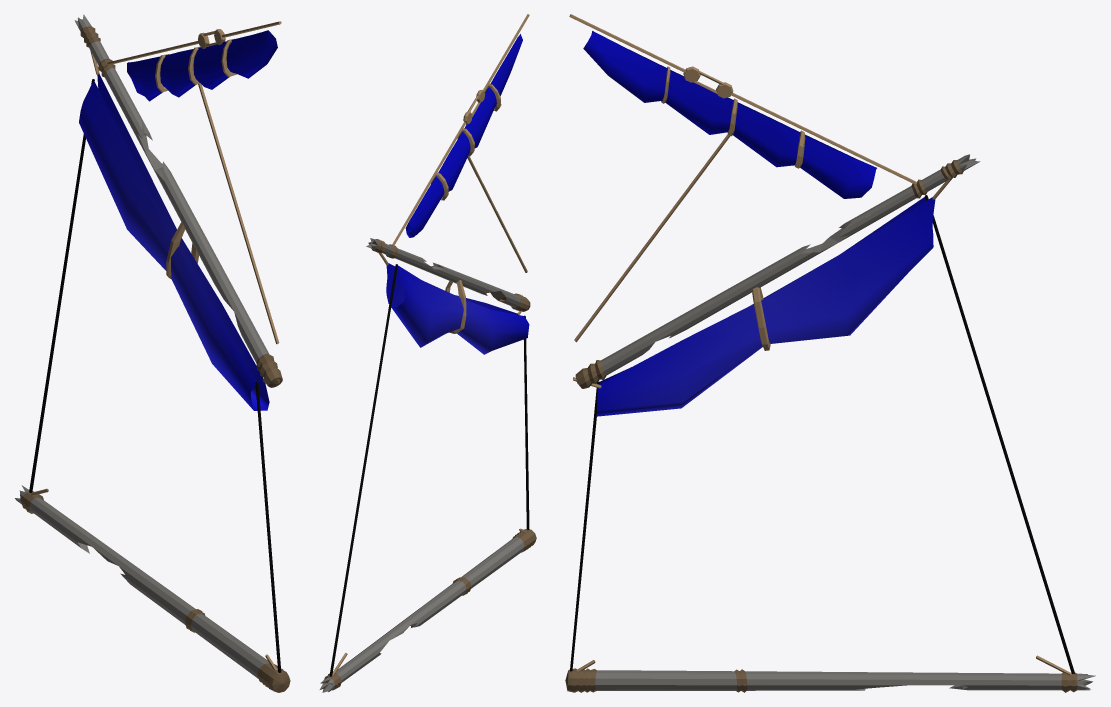
File: SM_Veh_Ship_M_Mast_Back_02_Boom_Back_01_Tied_01.fbx
The picture shows the model from 3 angles, left to right: view 1: azimuth 30°, elevation 25°; view 2: azimuth 150°, elevation 25°; view 3: azimuth 270°, elevation 25°; orthographic projection. The views are drawn at different scales.
Visible parts, largest first — view 1: SM_Veh_Ship_M_Mast_Back_02_Boom_Back_01_Tied_01; view 2: SM_Veh_Ship_M_Mast_Back_02_Boom_Back_01_Tied_01; view 3: SM_Veh_Ship_M_Mast_Back_02_Boom_Back_01_Tied_01.
Boxes of the visible parts, left/top/right/bottom form: SM_Veh_Ship_M_Mast_Back_02_Boom_Back_01_Tied_01: left=15, top=14, right=290, bottom=692; SM_Veh_Ship_M_Mast_Back_02_Boom_Back_01_Tied_01: left=319, top=14, right=536, bottom=692; SM_Veh_Ship_M_Mast_Back_02_Boom_Back_01_Tied_01: left=565, top=14, right=1095, bottom=692.
Bounding box in the file's own units: 111 × 1998 × 1421.
